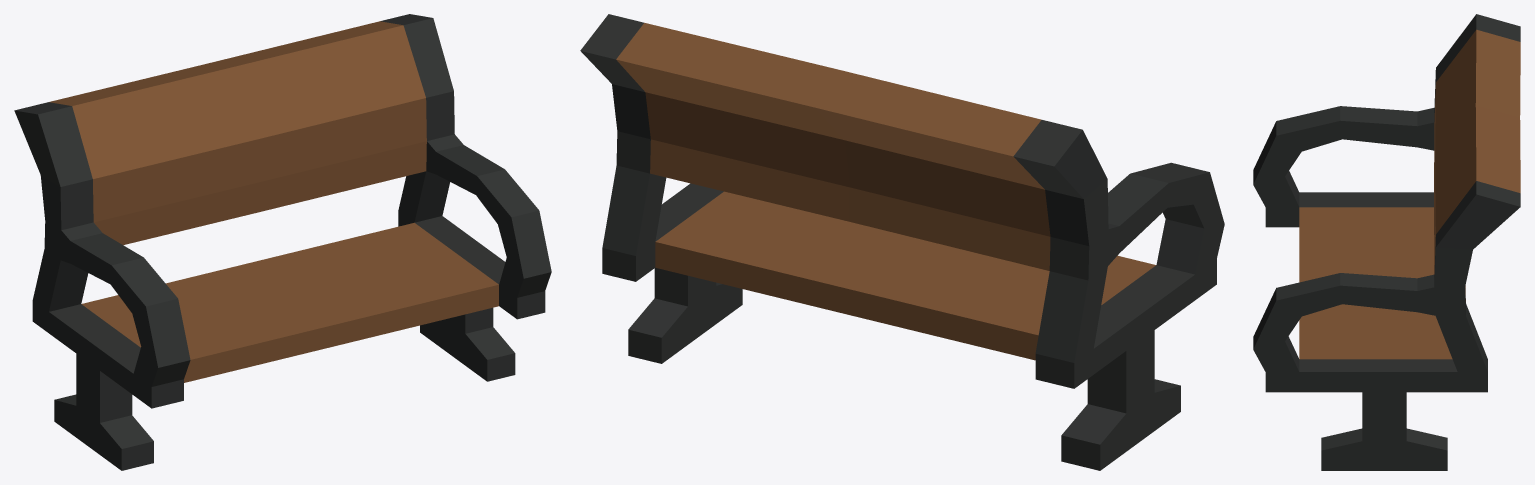
Rendered from bench.fbx.
3 renders of one model, left to right at view 1: azimuth 30°, elevation 25°; view 2: azimuth 150°, elevation 25°; view 3: azimuth 270°, elevation 25°, orthographic. The views are drawn at different scales.
Parts seen in each view (by area): view 1: Cube.005; view 2: Cube.005; view 3: Cube.005.
Boxes of the visible parts, box(x1,y1,x2,y2) form: Cube.005: box(14, 14, 551, 470); Cube.005: box(580, 14, 1224, 470); Cube.005: box(1253, 14, 1520, 470).
Size of the model in its own units: 150 by 107 by 94.04.
1 material, 1 textured.
